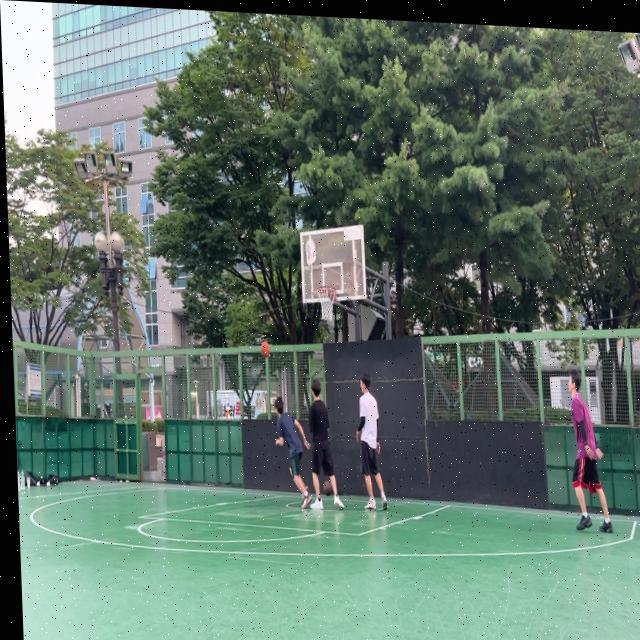basketball: (323, 480, 333, 497), (260, 342, 270, 358)
hoop: (316, 284, 338, 323)
